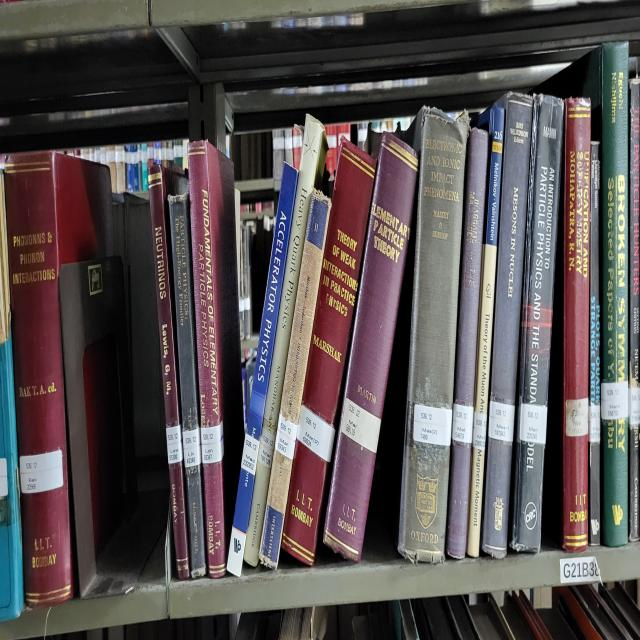Book: (4, 152, 114, 606), (324, 133, 419, 563), (282, 141, 376, 565), (244, 116, 325, 565), (398, 108, 469, 563), (226, 173, 298, 576), (260, 189, 331, 568), (511, 95, 564, 552), (189, 141, 244, 579), (481, 92, 532, 557), (446, 127, 489, 560), (149, 165, 190, 579), (468, 106, 505, 557), (169, 192, 206, 579), (601, 43, 629, 547), (562, 97, 591, 552), (589, 141, 601, 544)
Label: (296, 406, 335, 463), (341, 398, 381, 452), (20, 449, 64, 492), (414, 403, 452, 446), (519, 403, 548, 444), (489, 400, 515, 444), (275, 411, 298, 460), (601, 381, 629, 419), (201, 422, 224, 463), (565, 398, 589, 436), (452, 403, 474, 444), (182, 427, 201, 468), (241, 433, 259, 476), (258, 427, 275, 468), (166, 425, 182, 465), (472, 411, 486, 452), (589, 403, 601, 444)
